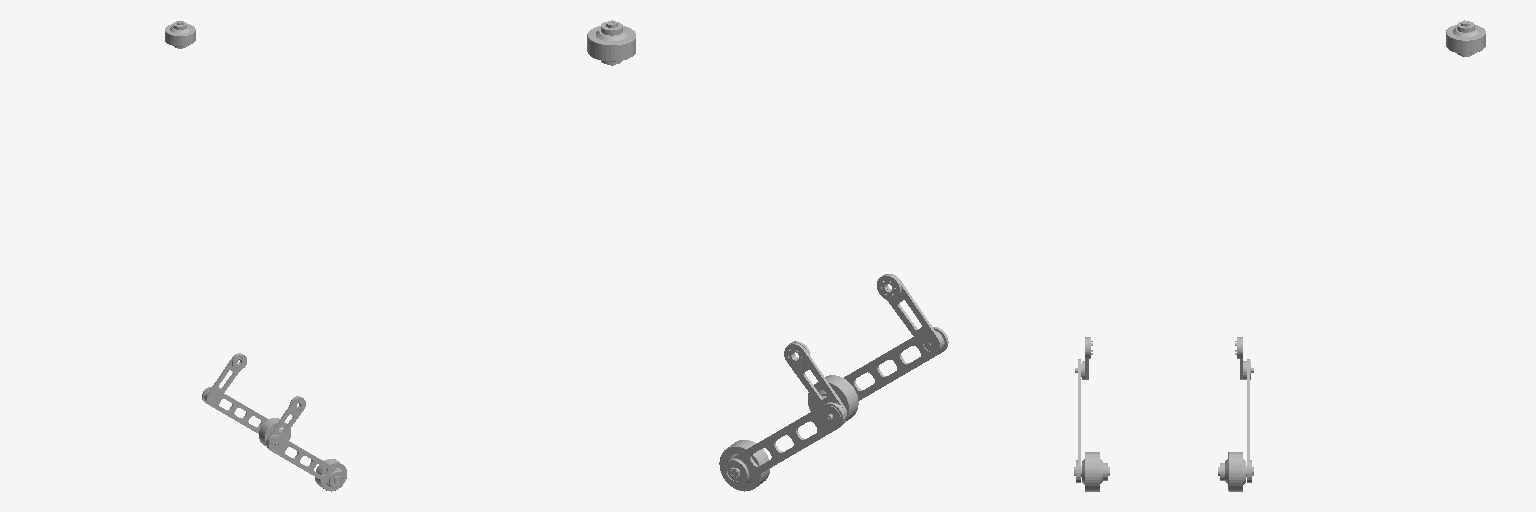
URDF robot description (main2):
<?xml version="1.0" encoding="utf-8"?>
<!-- This URDF was automatically created by SolidWorks to URDF Exporter! Originally created by [author] ([email redacted]) 
     Commit Version: 1.6.0-4-g7f85cfe  Build Version: 1.6.7995.38578
     For more information, please see http://wiki.ros.org/sw_urdf_exporter -->
<robot
  name="main2">
  <link
    name="base_link">
    <inertial>
      <origin
        xyz="-0.067218 -1.1041 0.08"
        rpy="0 0 0" />
      <mass
        value="9.25" />
      <inertia
        ixx="0.028386"
        ixy="9.8079E-06"
        ixz="-5.7075E-06"
        iyy="0.062197"
        iyz="-1.3954E-06"
        izz="0.041168" />
    </inertial>
    <visual>
      <origin
        xyz="0 0 0"
        rpy="0 0 0" />
      <geometry>
        <mesh
          filename="../meshes/base_link.STL" />
      </geometry>
      <material
        name="">
        <color
          rgba="0.75294 0.75294 0.75294 1" />
      </material>
    </visual>
    <collision>
      <origin
        xyz="0 0 0"
        rpy="0 0 0" />
      <geometry>
        <mesh
          filename="../meshes/base_link.STL" />
      </geometry>
    </collision>
  </link>
  <link
    name="lf0_Link">
    <inertial>
      <origin
        xyz="-0.078475 0.018687 0.045086"
        rpy="0 0 0" />
      <mass
        value="0.313" />
      <inertia
        ixx="0.00021536"
        ixy="-1.3936E-05"
        ixz="0.00024407"
        iyy="0.00070373"
        iyz="8.0063E-06"
        izz="0.00049996" />
    </inertial>
    <visual>
      <origin
        xyz="0 0 0"
        rpy="0 0 0" />
      <geometry>
        <mesh
          filename="../meshes/lf0_Link.STL" />
      </geometry>
      <material
        name="">
        <color
          rgba="0.75294 0.75294 0.75294 1" />
      </material>
    </visual>
    <collision>
      <origin
        xyz="0 0 0"
        rpy="0 0 0" />
      <geometry>
        <mesh
          filename="../meshes/lf0_Link.STL" />
      </geometry>
    </collision>
  </link>
  <joint
    name="lf0_Joint"
    type="revolute">
    <origin
      xyz="-0.16273 -0.88016 -0.039204"
      rpy="3.1416 -0.32099 0" />
    <parent
      link="base_link" />
    <child
      link="lf0_Link" />
    <axis
      xyz="0 1 0" />
    <limit
      lower="-1.3479"
      upper="0.3363"
      effort="30"
      velocity="1000" />
  </joint>
  <link
    name="lf1_Link">
    <inertial>
      <origin
        xyz="0.093195 0.00079988 0.08634"
        rpy="0 0 0" />
      <mass
        value="0.3802" />
      <inertia
        ixx="0.0019587"
        ixy="2.6727E-05"
        ixz="-0.0019591"
        iyy="0.0042067"
        iyz="2.4761E-05"
        izz="0.0022584" />
    </inertial>
    <visual>
      <origin
        xyz="0 0 0"
        rpy="0 0 0" />
      <geometry>
        <mesh
          filename="../meshes/lf1_Link.STL" />
      </geometry>
      <material
        name="">
        <color
          rgba="0.75294 0.75294 0.75294 1" />
      </material>
    </visual>
    <collision>
      <origin
        xyz="0 0 0"
        rpy="0 0 0" />
      <geometry>
        <mesh
          filename="../meshes/lf1_Link.STL" />
      </geometry>
    </collision>
  </link>
  <joint
    name="lf1_Joint"
    type="revolute">
    <origin
      xyz="-0.13006 0 0.074724"
      rpy="0 -0.24249 0" />
    <parent
      link="lf0_Link" />
    <child
      link="lf1_Link" />
    <axis
      xyz="0 1 0" />
    <limit
      lower="-0.7363"
      upper="1.1479"
      effort="30"
      velocity="1000" />
  </joint>
  <link
    name="l_wheel_Link">
    <inertial>
      <origin
        xyz="6.245E-15 -0.034473 3.6082E-15"
        rpy="0 0 0" />
      <mass
        value="1.6886" />
      <inertia
        ixx="0.0004649"
        ixy="-5.6999E-18"
        ixz="-1.3553E-20"
        iyy="0.00071923"
        iyz="-2.4126E-19"
        izz="0.0004649" />
    </inertial>
    <visual>
      <origin
        xyz="0 0 0"
        rpy="0 0 0" />
      <geometry>
        <mesh
          filename="../meshes/l_wheel_Link.STL" />
      </geometry>
      <material
        name="">
        <color
          rgba="0.75294 0.75294 0.75294 1" />
      </material>
    </visual>
    <collision>
      <origin
        xyz="0 0 0"
        rpy="0 0 0" />
      <geometry>
        <mesh
          filename="../meshes/l_wheel_Link.STL" />
      </geometry>
    </collision>
  </link>
  <joint
    name="l_wheel_Joint"
    type="revolute">
    <origin
      xyz="0.22007 0 0.20388"
      rpy="0 0.29322 3.1416" />
    <parent
      link="lf1_Link" />
    <child
      link="l_wheel_Link" />
    <axis
      xyz="0 1 0" />
    <dynamics damping="0" friction="0"/>
    <limit effort="5" velocity="1000" />
  </joint>
  <link
    name="rf0_Link">
    <inertial>
      <origin
        xyz="-0.078475 -0.018286 0.045086"
        rpy="0 0 0" />
      <mass
        value="0.3131" />
      <inertia
        ixx="0.00021536"
        ixy="-1.3936E-05"
        ixz="0.00024407"
        iyy="0.00070373"
        iyz="8.0063E-06"
        izz="0.00049996" />
    </inertial>
    <visual>
      <origin
        xyz="0 0 0"
        rpy="0 0 0" />
      <geometry>
        <mesh
          filename="../meshes/rf0_Link.STL" />
      </geometry>
      <material
        name="">
        <color
          rgba="0.75294 0.75294 0.75294 1" />
      </material>
    </visual>
    <collision>
      <origin
        xyz="0 0 0"
        rpy="0 0 0" />
      <geometry>
        <mesh
          filename="../meshes/rf0_Link.STL" />
      </geometry>
    </collision>
  </link>
  <joint
    name="rf0_Joint"
    type="revolute">
    <origin
      xyz="-0.16273 -1.2911 -0.039204"
      rpy="0 -1.3639 0" />
    <parent
      link="base_link" />
    <child
      link="rf0_Link" />
    <axis
      xyz="0 1 0" />
    <limit
      lower="-0.3363"
      upper="1.3479"
      effort="30"
      velocity="1000" />
  </joint>
  <link
    name="rf1_Link">
    <inertial>
      <origin
        xyz="0.093195 -0.019823 0.08634"
        rpy="0 0 0" />
      <mass
        value="0.3802" />
      <inertia
        ixx="0.0019587"
        ixy="2.6727E-05"
        ixz="-0.0019591"
        iyy="0.0042067"
        iyz="2.4761E-05"
        izz="0.0022584" />
    </inertial>
    <visual>
      <origin
        xyz="0 0 0"
        rpy="0 0 0" />
      <geometry>
        <mesh
          filename="../meshes/rf1_Link.STL" />
      </geometry>
      <material
        name="">
        <color
          rgba="0.75294 0.75294 0.75294 1" />
      </material>
    </visual>
    <collision>
      <origin
        xyz="0 0 0"
        rpy="0 0 0" />
      <geometry>
        <mesh
          filename="../meshes/rf1_Link.STL" />
      </geometry>
    </collision>
  </link>
  <joint
    name="rf1_Joint"
    type="revolute">
    <origin
      xyz="-0.13006 -0.016351 0.074724"
      rpy="3.1416 0.36168 3.1416" />
    <parent
      link="rf0_Link" />
    <child
      link="rf1_Link" />
    <axis
      xyz="0 1 0" />
    <limit
      lower="-1.1479"
      upper="0.7363"
      effort="30"
      velocity="1000" />
  </joint>
  <link
    name="r_wheel_Link">
    <inertial>
      <origin
        xyz="1.9429E-16 -0.01385 -5.3846E-15"
        rpy="0 0 0" />
      <mass
        value="1.6886" />
      <inertia
        ixx="0.0004649"
        ixy="1.998E-18"
        ixz="2.7105E-20"
        iyy="0.00071923"
        iyz="4.4663E-19"
        izz="0.0004649" />
    </inertial>
    <visual>
      <origin
        xyz="0 0 0"
        rpy="0 0 0" />
      <geometry>
        <mesh
          filename="../meshes/r_wheel_Link.STL" />
      </geometry>
      <material
        name="">
        <color
          rgba="0.75294 0.75294 0.75294 1" />
      </material>
    </visual>
    <collision>
      <origin
        xyz="0 0 0"
        rpy="0 0 0" />
      <geometry>
        <mesh
          filename="../meshes/r_wheel_Link.STL" />
      </geometry>
    </collision>
  </link>
  <joint
    name="r_wheel_Joint"
    type="revolute">
    <origin
      xyz="0.22007 0 0.20388"
      rpy="3.1416 1.3325 0" />
    <parent
      link="rf1_Link" />
    <child
      link="r_wheel_Link" />
    <axis
      xyz="0 1 0" />
    <dynamics damping="0" friction="0"/>
    <limit effort="5" velocity="1000" />
  </joint>
</robot>

--- What the picture shows (computed from the rendered views, not written in the file) ---
Views: 3 orthographic renders of the robot side by side, from view 1: azimuth 30°, elevation 25°; view 2: azimuth 150°, elevation 25°; view 3: azimuth 270°, elevation 25°.
Robot: main2 — 7 links, 6 joints (6 revolute); root link base_link; default pose: every joint at zero.
Links seen in each view (by area): view 1: rf1_Link, lf0_Link, lf1_Link, base_link, rf0_Link; view 2: lf1_Link, rf0_Link, rf1_Link, base_link, lf0_Link, l_wheel_Link, r_wheel_Link; view 3: base_link, r_wheel_Link, l_wheel_Link.
Link boxes in pixels (x1=…): rf1_Link: x1=267, y1=435, x2=344, y2=487; lf0_Link: x1=204, y1=353, x2=246, y2=404; lf1_Link: x1=202, y1=387, x2=268, y2=433; base_link: x1=165, y1=21, x2=195, y2=48; rf0_Link: x1=266, y1=396, x2=305, y2=446; lf1_Link: x1=723, y1=402, x2=844, y2=485; rf0_Link: x1=877, y1=274, x2=944, y2=354; rf1_Link: x1=844, y1=327, x2=948, y2=400; base_link: x1=587, y1=20, x2=635, y2=65; lf0_Link: x1=784, y1=341, x2=846, y2=419; l_wheel_Link: x1=719, y1=440, x2=769, y2=491; r_wheel_Link: x1=808, y1=375, x2=858, y2=422; base_link: x1=1446, y1=20, x2=1485, y2=56; r_wheel_Link: x1=1074, y1=452, x2=1109, y2=491; l_wheel_Link: x1=1218, y1=452, x2=1253, y2=491.
Bounding box of the posed robot: 0.3179 × 1.09 × 1.35 m (x, y, z).
Meshes: 7 distinct files referenced, 7 mesh visuals loaded (7 binary STL).